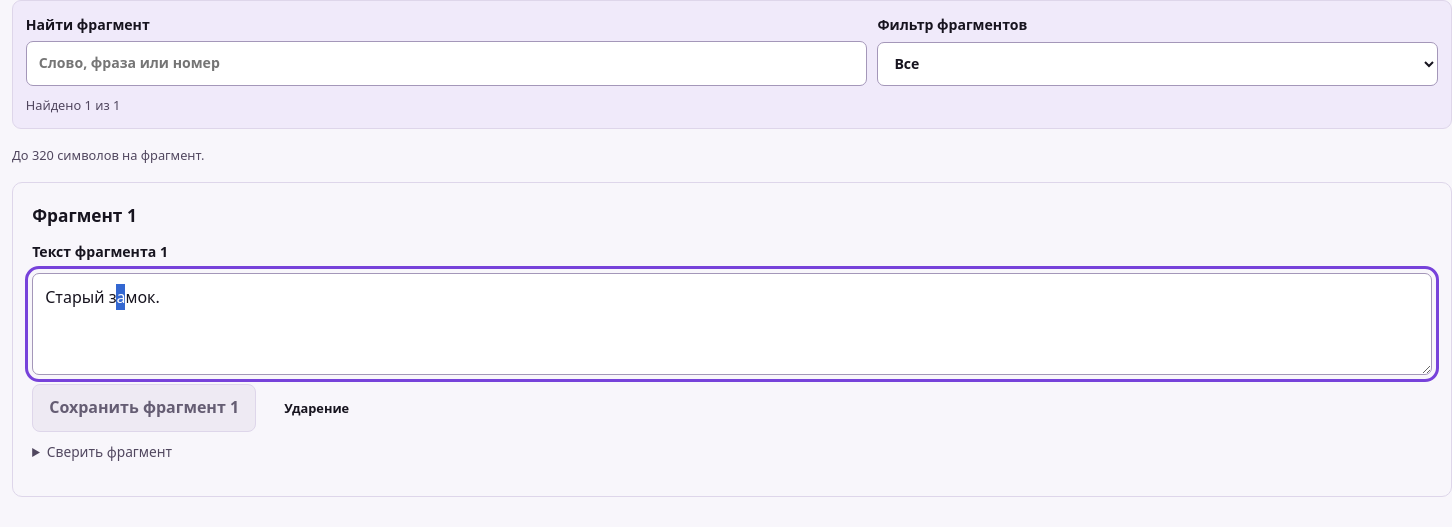
Scenario: adds or removes stress on the selected vowel and saves it as a spoken-text draft
Later steps or results of the test are not shown.
Click the button with aria-label "Ударение · фрагмент 1".
click(317, 408)  # box x1=267 y1=387 x2=366 y2=429
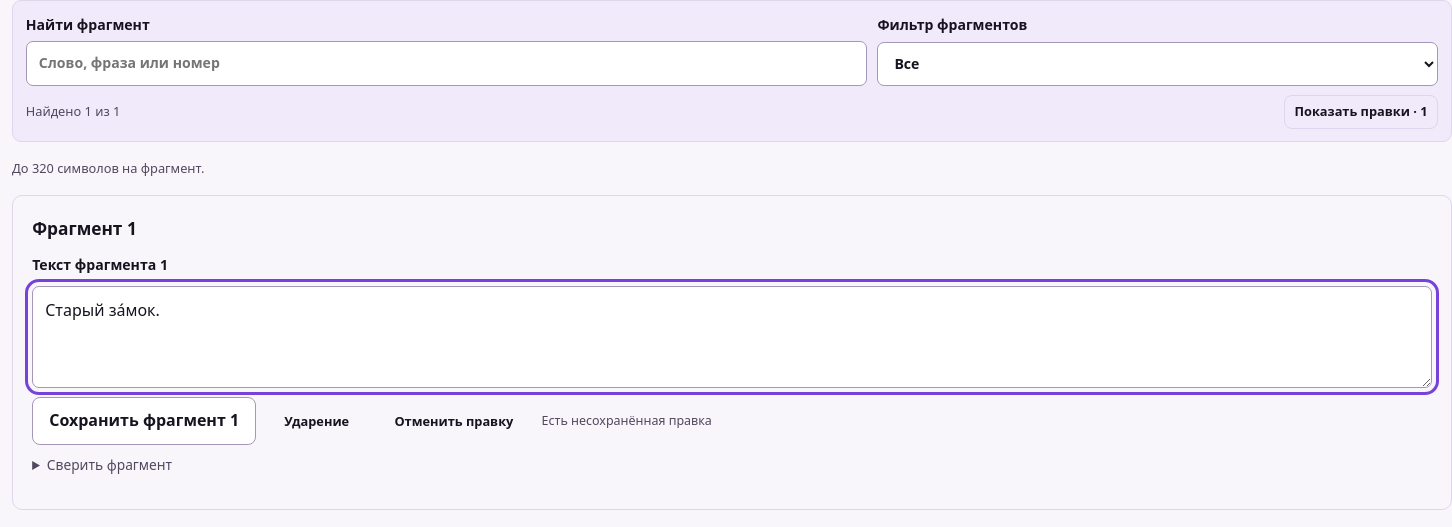
Click the button with aria-label "Ударение · фрагмент 1".
click(317, 421)  # box x1=267 y1=400 x2=366 y2=442
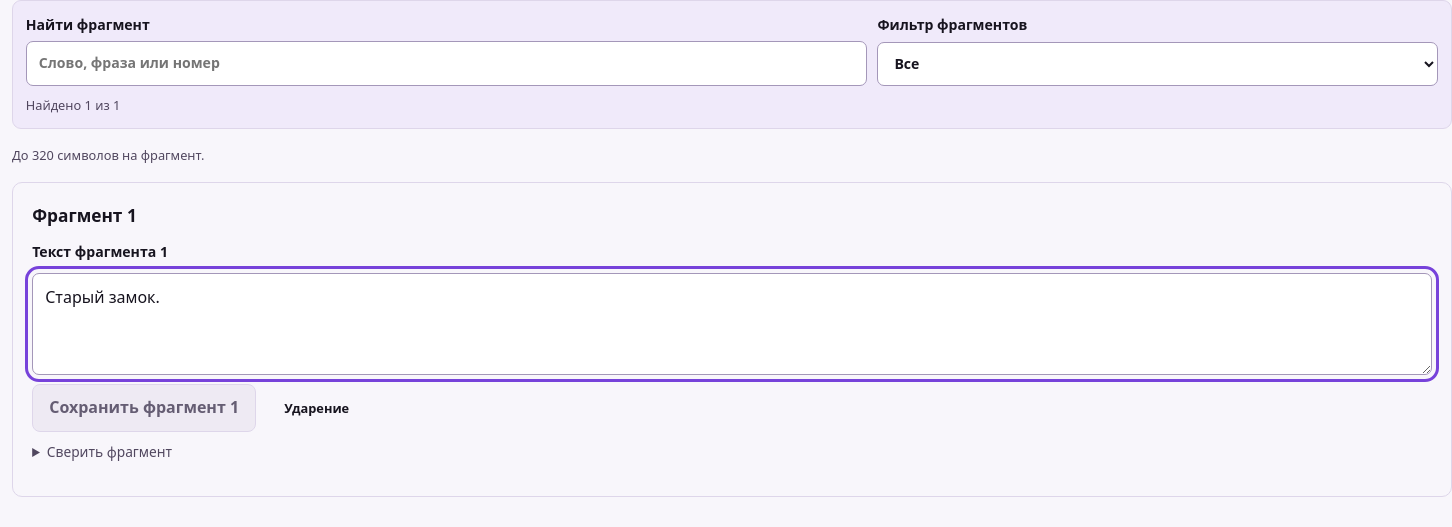
Expected: the text box labelled "Текст фрагмента 1" holds "Старый замок.", x1=32 y1=273 x2=1432 y2=375
